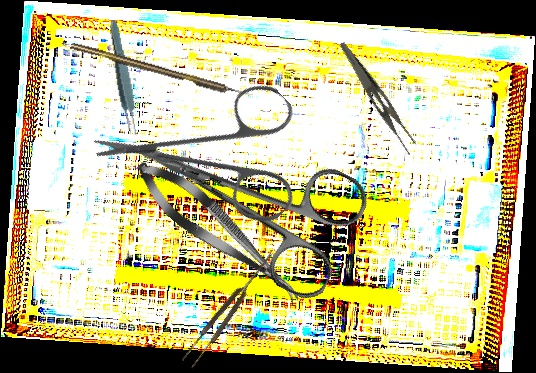Dressing Forceps: (327, 41, 425, 157)
Hook Surgical: (69, 40, 254, 102)
Iris Scissors: (88, 26, 342, 279), (114, 86, 376, 306)
Micro Scissor: (125, 148, 314, 316)
Tissue Forceps: (179, 248, 280, 370), (105, 19, 141, 138)
